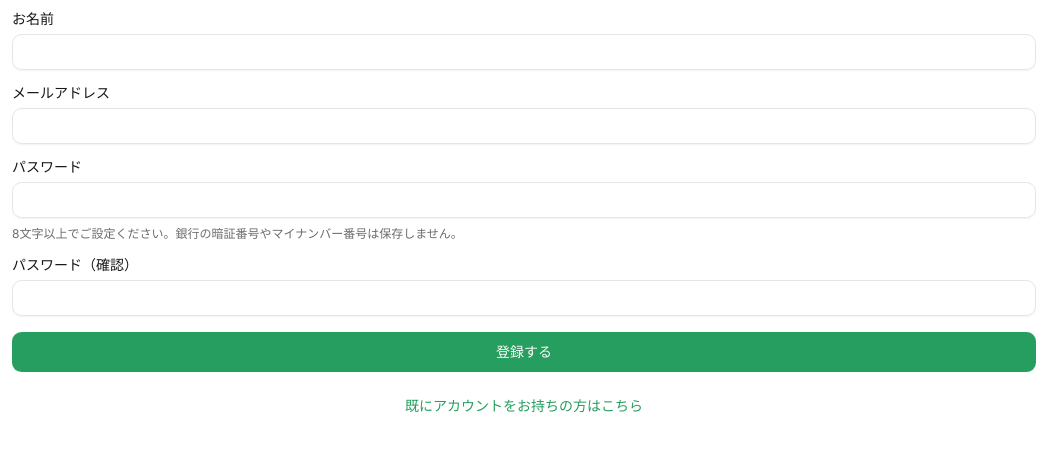
RegisterForm › surfaces a 422 field error on the email field (email already taken)
Step 1. Type "山田 太郎" into the field labelled "お名前" → (524, 52), box top-left (12, 34), bottom-right (1036, 70)
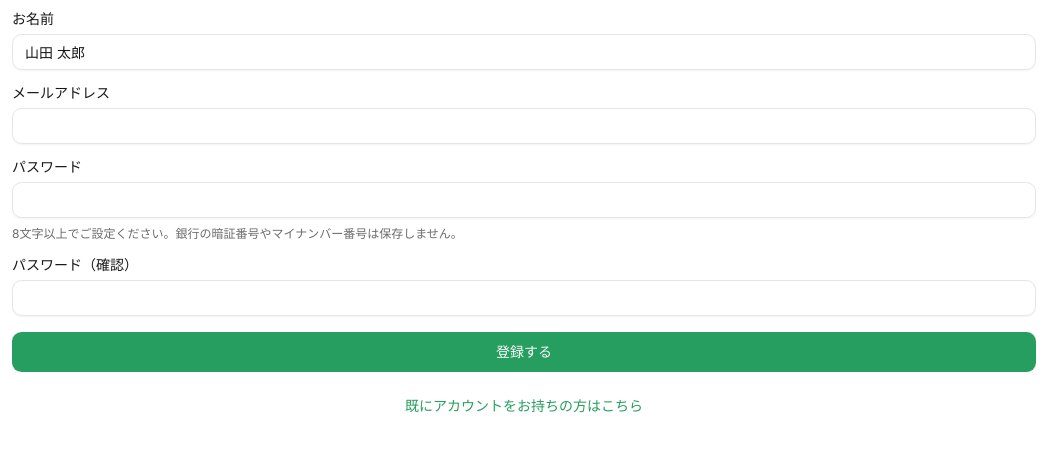
Step 2. Type "taro@example.com" into the field labelled "メールアドレス" → (524, 126), box top-left (12, 108), bottom-right (1036, 144)
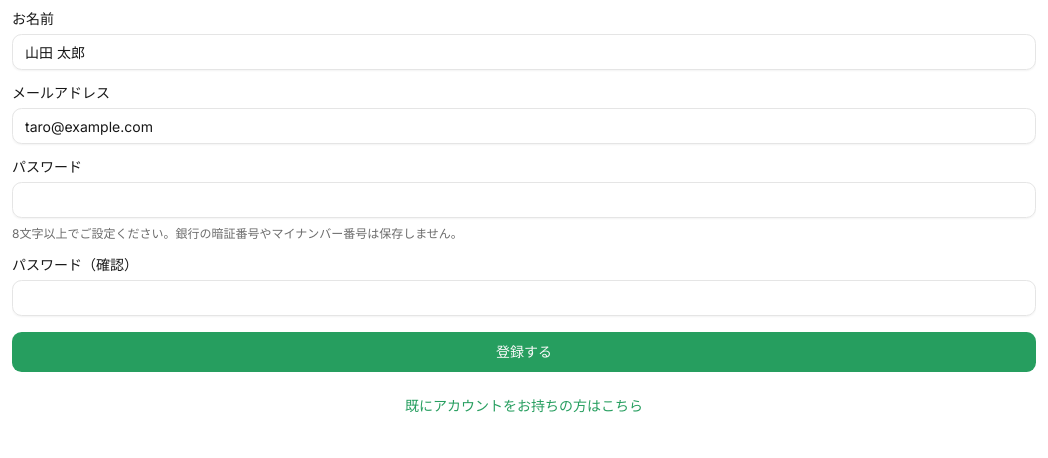
Step 3. Type "password123" into the password field labelled "パスワード" → (524, 200), box top-left (12, 182), bottom-right (1036, 218)
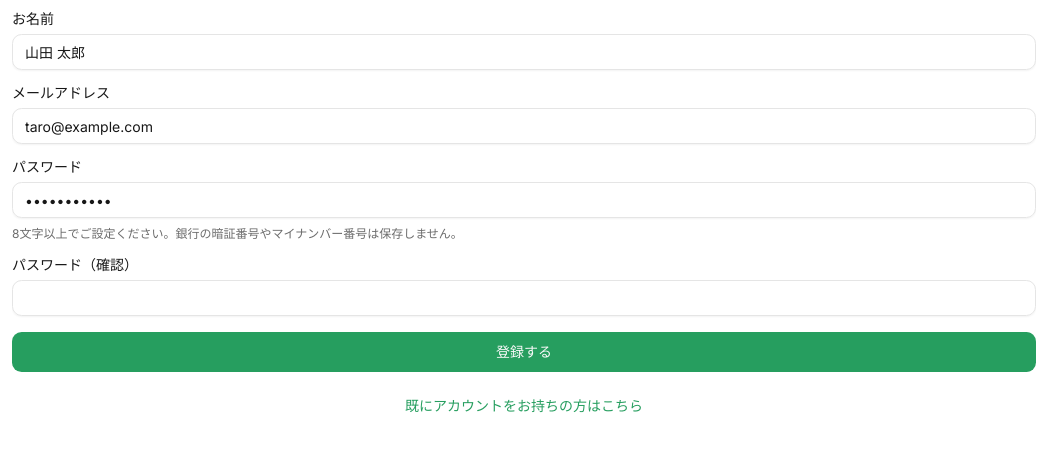
Step 4. Type "password123" into the password field labelled "パスワード（確認）" → (524, 298), box top-left (12, 280), bottom-right (1036, 316)
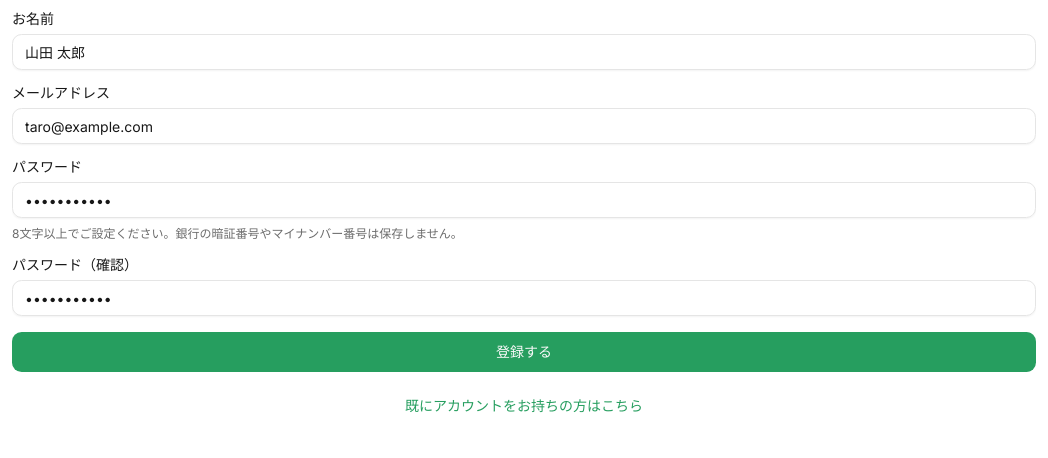
Step 5. Click the button "登録する" → (524, 352), box top-left (12, 332), bottom-right (1036, 372)
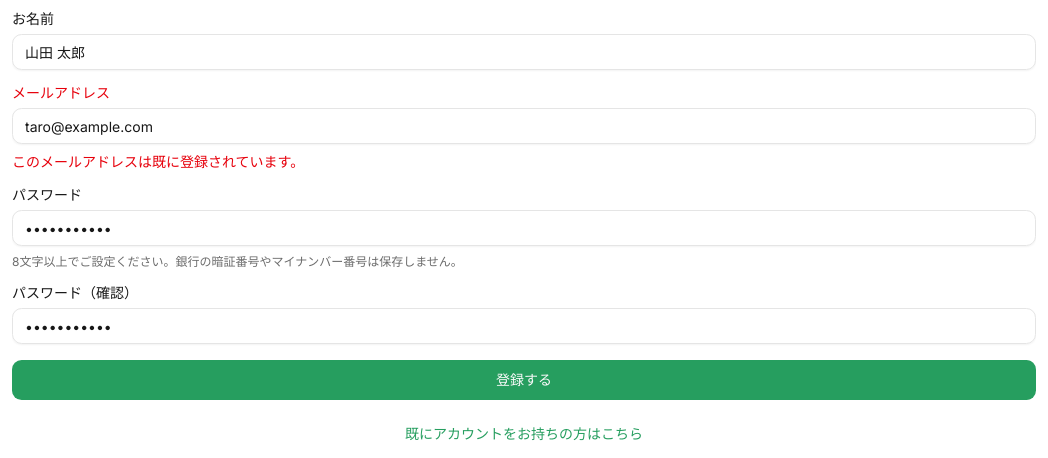
Result: the text "このメールアドレスは既に登録されています。" is shown at top-left (12, 153), bottom-right (304, 170)
